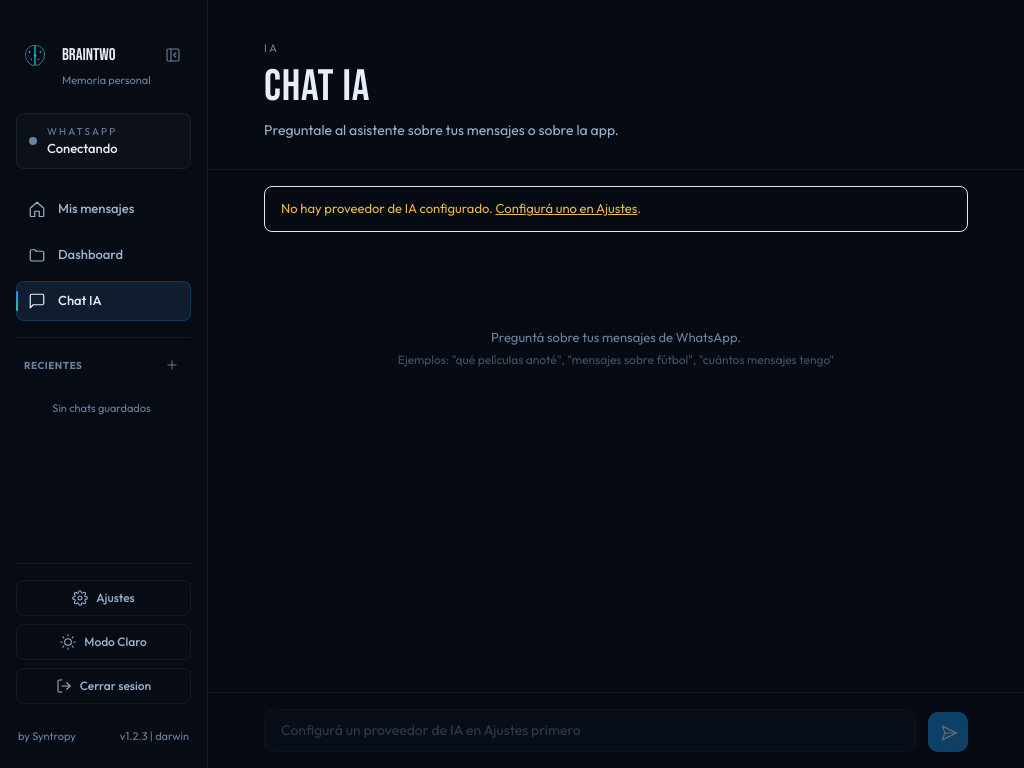
Test: <App /> › manual nav (within app phase) › both nav buttons swap the view
Check: the text "Conectando" is shown, box [47,138,118,158]
Check: the text "Preguntá sobre tus mensajes de WhatsApp." is shown, box [491,329,741,345]
Click the button "Mis mensajes" at (104, 209), box [16,189,191,229]
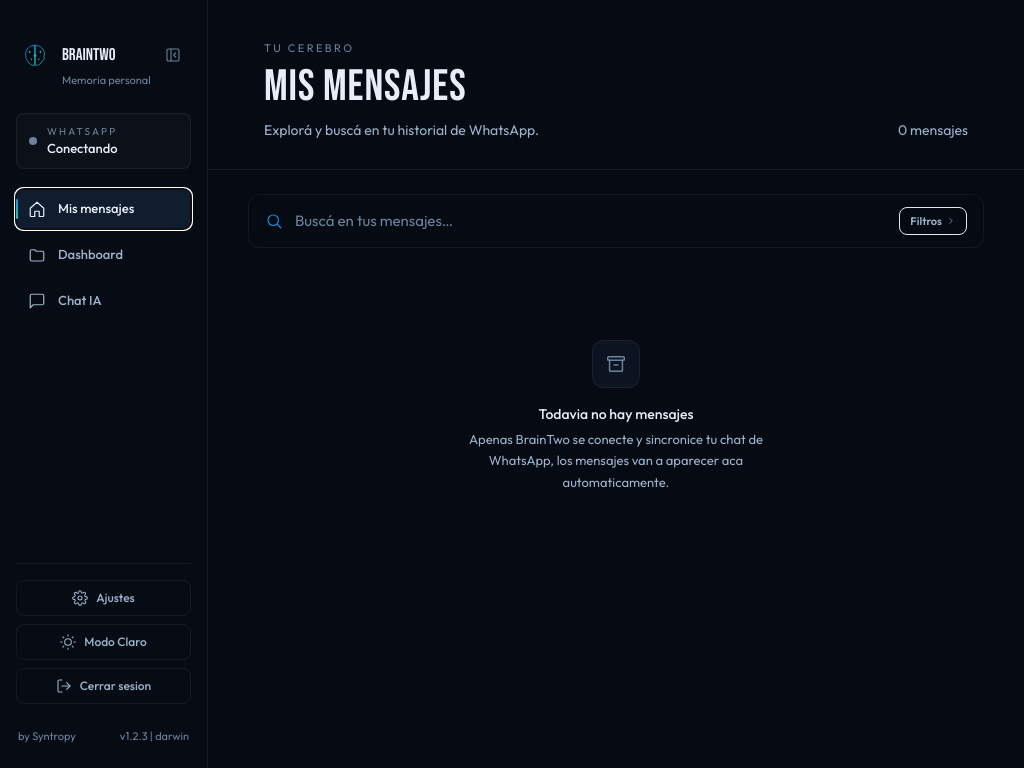
Check: the text "Todavia no hay mensajes" is shown, box [538,405,693,423]
Click the button "Chat IA" at (104, 301), box [16,281,191,321]
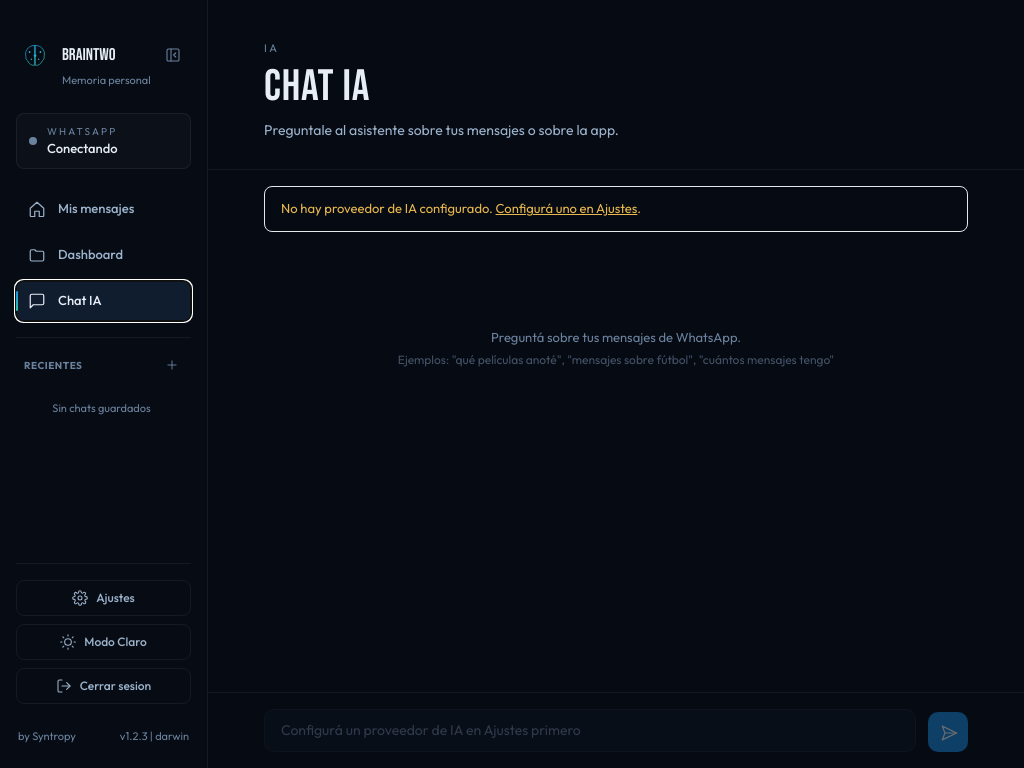
Check: the text "Preguntá sobre tus mensajes de WhatsApp." is shown, box [491,329,741,345]
